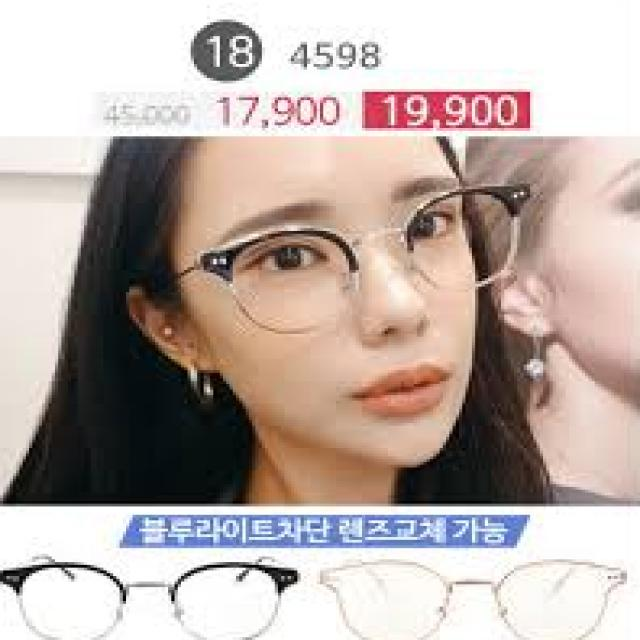Glasses: (176, 170, 564, 346)
